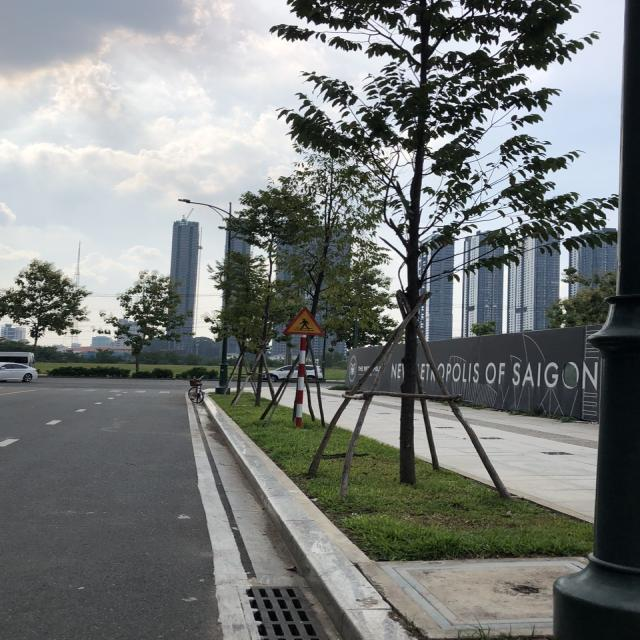Bien bao duong nguoi di bo cat ngang: (275, 300, 331, 339)
